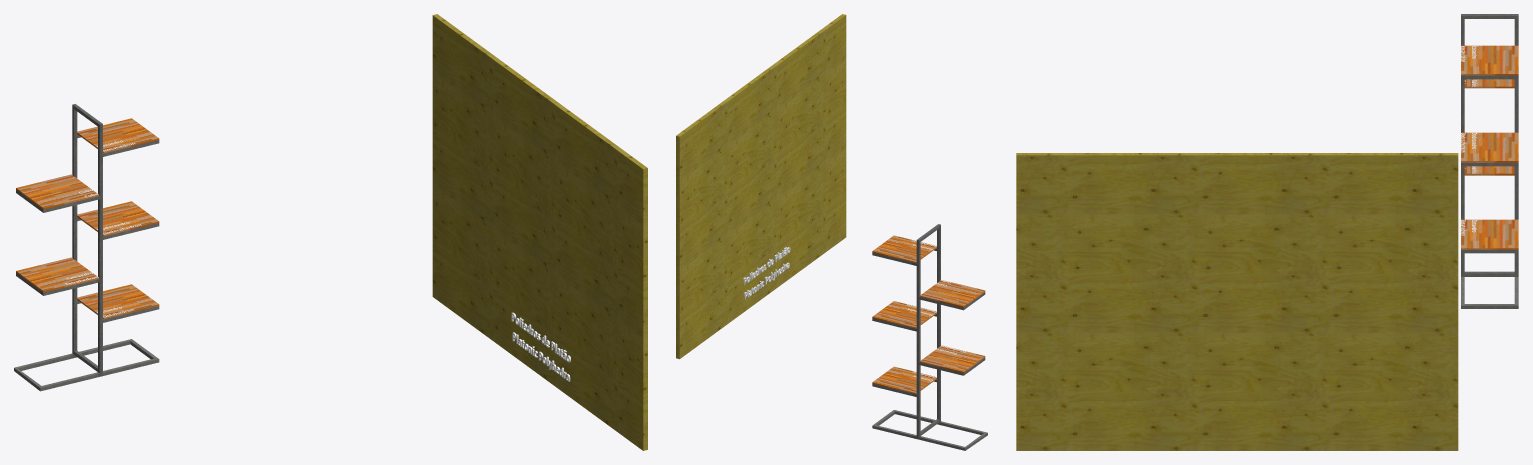
File: estantePlatao.glb
3 views of the same model, side by side, from view 1: azimuth 30°, elevation 25°; view 2: azimuth 150°, elevation 25°; view 3: azimuth 270°, elevation 25° (orthographic). The views are drawn at different scales.
Parts seen in each view (by area): view 1: root, Poliedros de Pla#2; view 2: root, Poliedros de Pla#2; view 3: root.
Part boxes in pixels (x1,y1,x2,y2): root: (14, 14, 647, 450); Poliedros de Pla#2: (511, 312, 570, 381); root: (676, 14, 987, 450); Poliedros de Pla#2: (743, 247, 790, 299); root: (1016, 14, 1518, 450).
Size of the model in its own units: 2.5 by 1.7 by 2.61.
4 materials, 3 textured.
